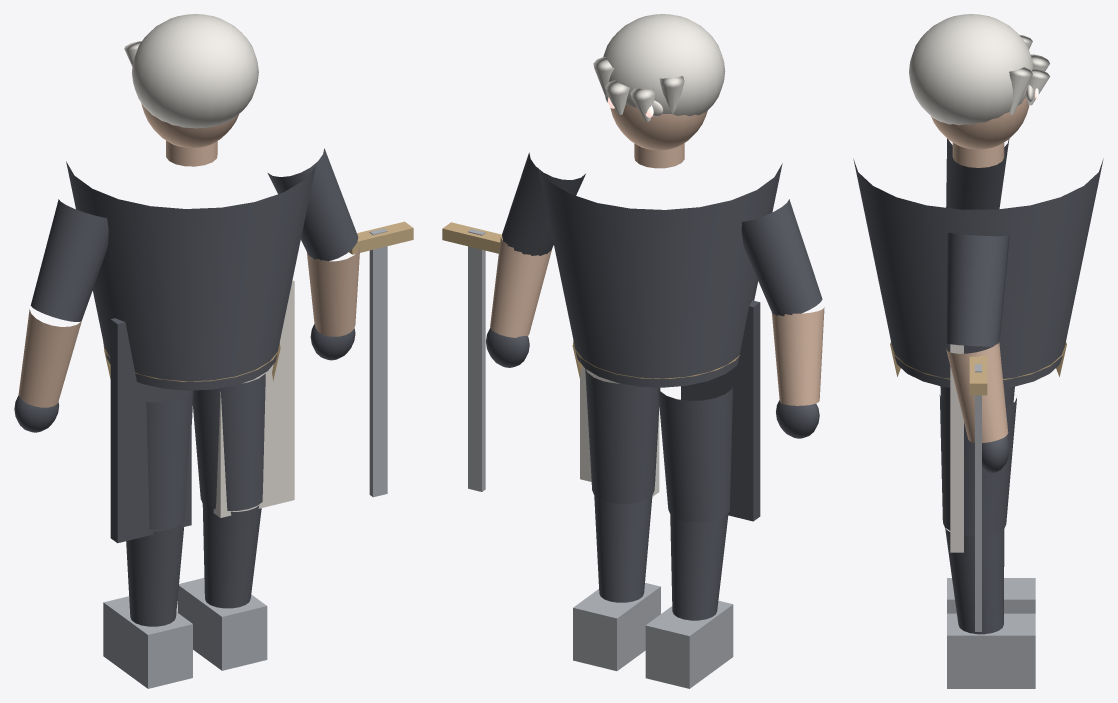
The model's file is colin-procedural-v1.glb.
3 views of the same model, side by side, from view 1: azimuth 30°, elevation 25°; view 2: azimuth 150°, elevation 25°; view 3: azimuth 270°, elevation 25° (orthographic). The views are drawn at different scales.
Visible parts, largest first — view 1: Outfit_Torso, Hair_Cap, Outfit_CoatTail_L, Body_Thigh_R, Body_UpperArm_L, Outfit_CoatTail_R, Outfit_Boot_L, Outfit_Boot_R, Body_Thigh_L, Body_Shin_R, Weapon_SwordBlade, Body_Shin_L (+8 smaller); view 2: Outfit_Torso, Hair_Cap, Body_Thigh_L, Body_Thigh_R, Outfit_CoatTail_L, Body_UpperArm_L, Outfit_Boot_L, Outfit_Boot_R, Body_Shin_R, Body_Shin_L, Weapon_SwordBlade, Body_Forearm_L (+9 smaller); view 3: Outfit_Torso, Hair_Cap, Body_UpperArm_R, Outfit_Boot_R, Body_Thigh_R, Body_Shin_R, Body_Forearm_R, Body_UpperArm_L, Outfit_CoatTail_R, Body_Head, Weapon_SwordBlade, Outfit_Boot_L (+5 smaller).
Part boxes in pixels (left/top/right/bottom): Outfit_Torso: left=66, top=161, right=315, bottom=390; Hair_Cap: left=132, top=14, right=258, bottom=128; Outfit_CoatTail_L: left=110, top=318, right=191, bottom=543; Body_Thigh_R: left=191, top=373, right=265, bottom=510; Body_UpperArm_L: left=30, top=199, right=108, bottom=321; Outfit_CoatTail_R: left=213, top=280, right=294, bottom=517; Outfit_Boot_L: left=103, top=596, right=192, bottom=688; Outfit_Boot_R: left=177, top=578, right=267, bottom=670; Body_Thigh_L: left=146, top=390, right=193, bottom=529; Body_Shin_R: left=202, top=503, right=261, bottom=608; Weapon_SwordBlade: left=369, top=228, right=387, bottom=497; Body_Shin_L: left=126, top=524, right=183, bottom=626; Outfit_Torso: left=538, top=163, right=782, bottom=387; Hair_Cap: left=603, top=14, right=725, bottom=116; Body_Thigh_L: left=657, top=386, right=732, bottom=522; Body_Thigh_R: left=585, top=369, right=660, bottom=503; Outfit_CoatTail_L: left=681, top=300, right=760, bottom=521; Body_UpperArm_L: left=741, top=199, right=822, bottom=316; Outfit_Boot_L: left=645, top=600, right=733, bottom=688; Outfit_Boot_R: left=573, top=583, right=660, bottom=670; Body_Shin_R: left=594, top=495, right=652, bottom=602; Body_Shin_L: left=670, top=513, right=728, bottom=620; Weapon_SwordBlade: left=468, top=229, right=485, bottom=491; Body_Forearm_L: left=771, top=307, right=824, bottom=405; Outfit_Torso: left=853, top=158, right=1103, bottom=387; Hair_Cap: left=909, top=14, right=1033, bottom=125; Body_UpperArm_R: left=946, top=232, right=1009, bottom=346; Outfit_Boot_R: left=947, top=613, right=1035, bottom=688; Body_Thigh_R: left=939, top=395, right=1016, bottom=536; Body_Shin_R: left=945, top=527, right=1004, bottom=634; Body_Forearm_R: left=946, top=342, right=1008, bottom=442; Body_UpperArm_L: left=946, top=138, right=1009, bottom=209; Outfit_CoatTail_R: left=950, top=344, right=963, bottom=552; Body_Head: left=931, top=97, right=1029, bottom=149; Weapon_SwordBlade: left=975, top=364, right=981, bottom=631; Outfit_Boot_L: left=947, top=578, right=1035, bottom=613.
Size of the model in its own units: 1.13 by 1.81 by 0.6418.
